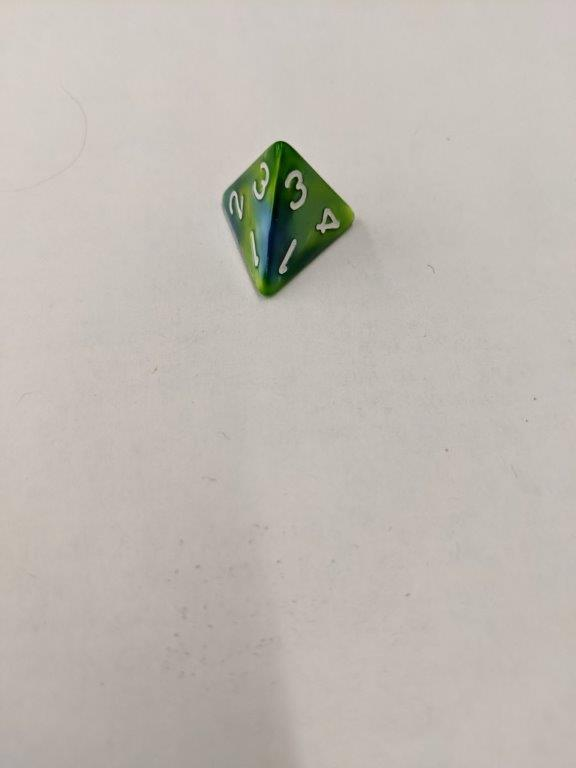d4-3: (219, 138, 359, 300)
